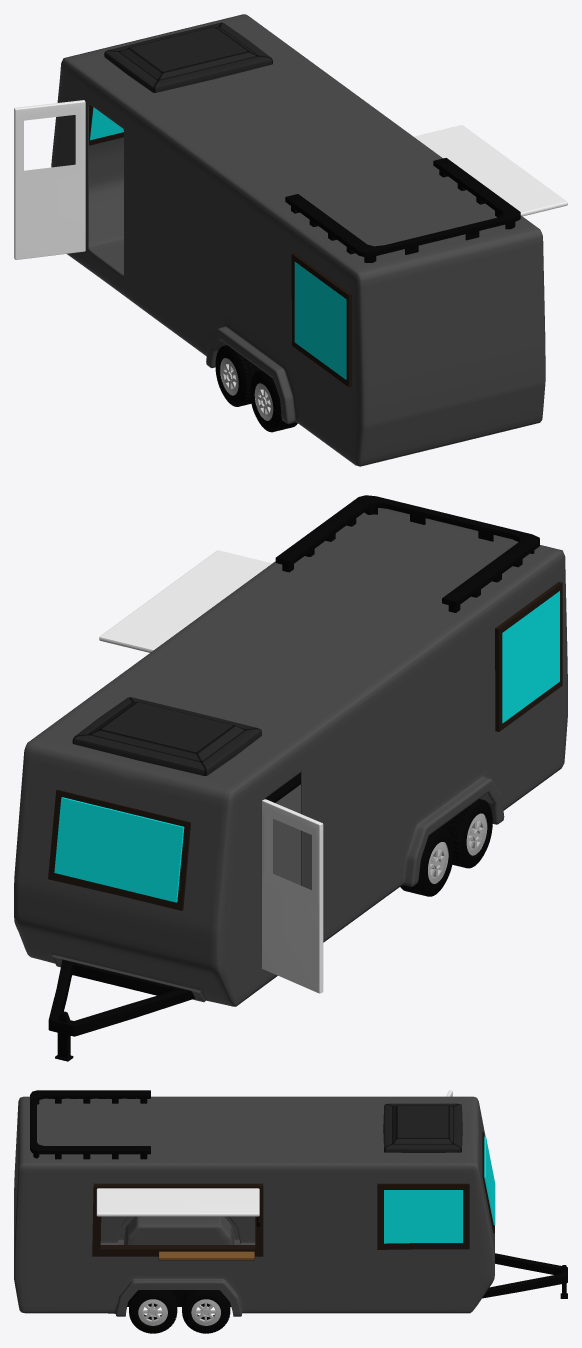
Rendered from RV UntexturedVersion.fbx.
The picture shows the model from 3 angles, top to bottom: view 1: azimuth 30°, elevation 25°; view 2: azimuth 150°, elevation 25°; view 3: azimuth 270°, elevation 25°; orthographic projection. The views are drawn at different scales.
Parts seen in each view (by area): view 1: RV_comined_mesh, door, main_window_cover; view 2: RV_comined_mesh, door, main_window_cover; view 3: RV_comined_mesh, main_window_cover, shelf.
Boxes of the visible parts, x1,y1,x2,y2 form: RV_comined_mesh: (51, 14, 545, 466); door: (14, 100, 85, 259); main_window_cover: (414, 125, 567, 216); RV_comined_mesh: (14, 495, 567, 1061); door: (262, 799, 323, 993); main_window_cover: (99, 550, 271, 652); RV_comined_mesh: (14, 1090, 567, 1333); main_window_cover: (96, 1188, 259, 1216); shelf: (158, 1251, 254, 1260).
Size of the model in its own units: 4.48 by 3.04 by 8.64.
